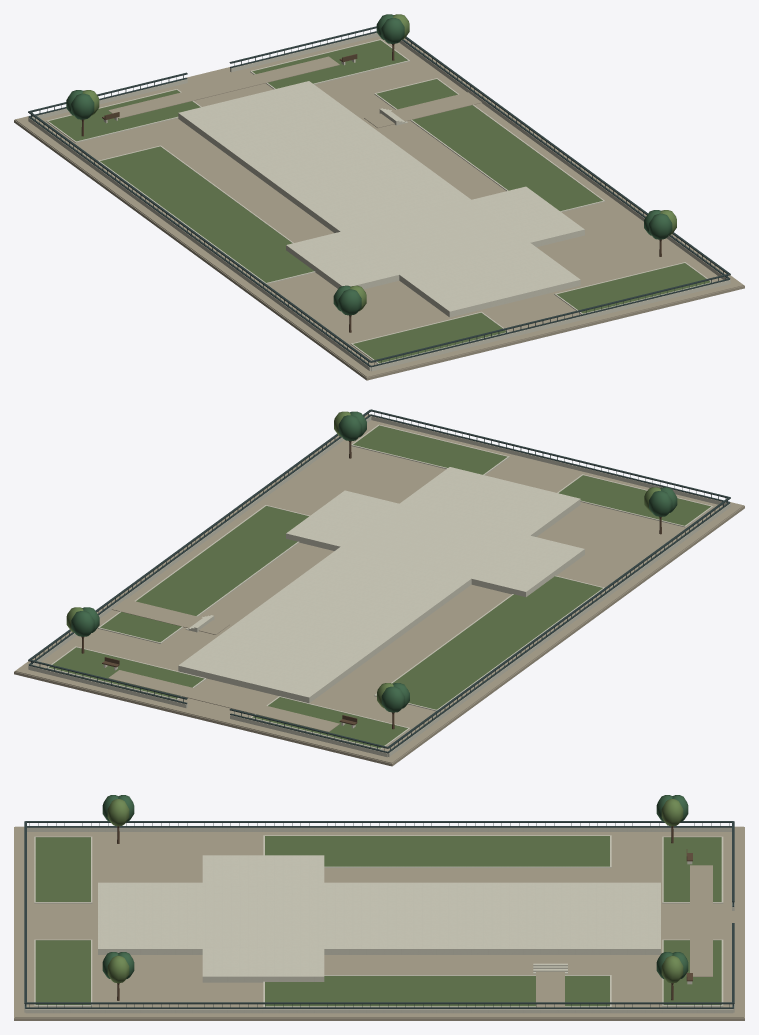
The model's file is KOL_T1_ST_PAULS__00_FoundationGrounds.fbx.
The picture shows the model from 3 angles, top to bottom: view 1: azimuth 30°, elevation 25°; view 2: azimuth 150°, elevation 25°; view 3: azimuth 270°, elevation 25°; orthographic projection. The views are drawn at different scales.
Parts seen in each view (by area): view 1: KOL_T1_ST_PAULS__00_FoundationGrounds__KOL_T1_B4_Stone_00, KOL_T1_ST_PAULS__00_FoundationGrounds__KOL_T1_B4_Paving_00, KOL_T1_ST_PAULS__00_FoundationGrounds__KOL_T1_B4_Lawn_00, KOL_T1_ST_PAULS__00_FoundationGrounds__KOL_T1_B4_Iron_00, KOL_T1_ST_PAULS__00_FoundationGrounds__KOL_T1_B4_Leaf_00, KOL_T1_ST_PAULS__00_FoundationGrounds__KOL_T1_B4_LeafLight_0; view 2: KOL_T1_ST_PAULS__00_FoundationGrounds__KOL_T1_B4_Stone_00, KOL_T1_ST_PAULS__00_FoundationGrounds__KOL_T1_B4_Paving_00, KOL_T1_ST_PAULS__00_FoundationGrounds__KOL_T1_B4_Lawn_00, KOL_T1_ST_PAULS__00_FoundationGrounds__KOL_T1_B4_Iron_00, KOL_T1_ST_PAULS__00_FoundationGrounds__KOL_T1_B4_Leaf_00, KOL_T1_ST_PAULS__00_FoundationGrounds__KOL_T1_B4_LeafLight_0; view 3: KOL_T1_ST_PAULS__00_FoundationGrounds__KOL_T1_B4_Stone_00, KOL_T1_ST_PAULS__00_FoundationGrounds__KOL_T1_B4_Paving_00, KOL_T1_ST_PAULS__00_FoundationGrounds__KOL_T1_B4_Lawn_00, KOL_T1_ST_PAULS__00_FoundationGrounds__KOL_T1_B4_Iron_00, KOL_T1_ST_PAULS__00_FoundationGrounds__KOL_T1_B4_LeafLight_0, KOL_T1_ST_PAULS__00_FoundationGrounds__KOL_T1_B4_Leaf_00.
Boxes of the visible parts, left/top/right/bottom form: KOL_T1_ST_PAULS__00_FoundationGrounds__KOL_T1_B4_Stone_00: left=28, top=32, right=730, bottom=371; KOL_T1_ST_PAULS__00_FoundationGrounds__KOL_T1_B4_Paving_00: left=14, top=36, right=744, bottom=380; KOL_T1_ST_PAULS__00_FoundationGrounds__KOL_T1_B4_Lawn_00: left=48, top=40, right=710, bottom=363; KOL_T1_ST_PAULS__00_FoundationGrounds__KOL_T1_B4_Iron_00: left=28, top=26, right=730, bottom=367; KOL_T1_ST_PAULS__00_FoundationGrounds__KOL_T1_B4_Leaf_00: left=66, top=14, right=672, bottom=315; KOL_T1_ST_PAULS__00_FoundationGrounds__KOL_T1_B4_LeafLight_0: left=82, top=14, right=676, bottom=311; KOL_T1_ST_PAULS__00_FoundationGrounds__KOL_T1_B4_Stone_00: left=28, top=416, right=730, bottom=757; KOL_T1_ST_PAULS__00_FoundationGrounds__KOL_T1_B4_Paving_00: left=14, top=414, right=744, bottom=766; KOL_T1_ST_PAULS__00_FoundationGrounds__KOL_T1_B4_Lawn_00: left=48, top=425, right=710, bottom=748; KOL_T1_ST_PAULS__00_FoundationGrounds__KOL_T1_B4_Iron_00: left=28, top=409, right=730, bottom=753; KOL_T1_ST_PAULS__00_FoundationGrounds__KOL_T1_B4_Leaf_00: left=71, top=411, right=677, bottom=712; KOL_T1_ST_PAULS__00_FoundationGrounds__KOL_T1_B4_LeafLight_0: left=66, top=411, right=660, bottom=708; KOL_T1_ST_PAULS__00_FoundationGrounds__KOL_T1_B4_Stone_00: left=24, top=827, right=734, bottom=1013; KOL_T1_ST_PAULS__00_FoundationGrounds__KOL_T1_B4_Paving_00: left=14, top=826, right=744, bottom=1020; KOL_T1_ST_PAULS__00_FoundationGrounds__KOL_T1_B4_Lawn_00: left=35, top=836, right=721, bottom=1006; KOL_T1_ST_PAULS__00_FoundationGrounds__KOL_T1_B4_Iron_00: left=24, top=821, right=734, bottom=1008; KOL_T1_ST_PAULS__00_FoundationGrounds__KOL_T1_B4_LeafLight_0: left=107, top=799, right=683, bottom=983; KOL_T1_ST_PAULS__00_FoundationGrounds__KOL_T1_B4_Leaf_00: left=102, top=795, right=688, bottom=979.
Size of the model in its own units: 156 by 19 by 252.
7 materials, 1 textured.
